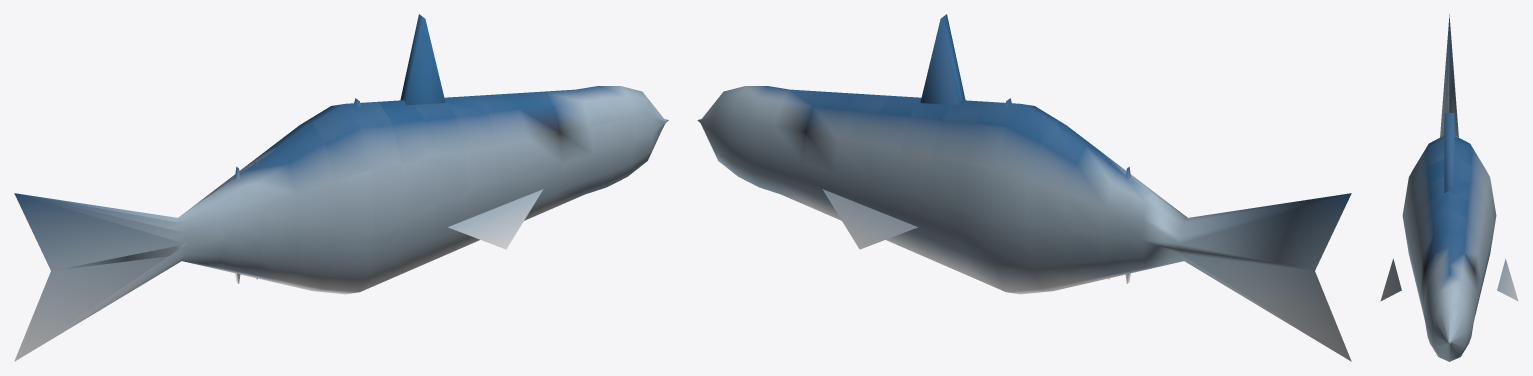
Rendered from Tuna.glb.
3 views of the same model, side by side, from view 1: azimuth 30°, elevation 25°; view 2: azimuth 150°, elevation 25°; view 3: azimuth 270°, elevation 25° (orthographic). The views are drawn at different scales.
Visible parts, largest first — view 1: Tuna; view 2: Tuna; view 3: Tuna.
Part boxes in pixels (left/top/right/bottom): Tuna: left=14, top=14, right=668, bottom=361; Tuna: left=697, top=14, right=1351, bottom=361; Tuna: left=1380, top=14, right=1518, bottom=361.
Bounding box in the file's own units: 1.42 × 0.5375 × 0.32.
